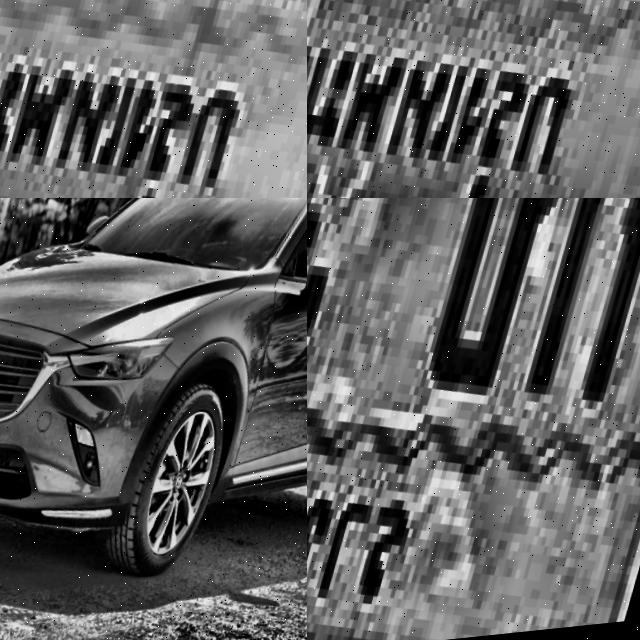license-plate: (307, 198, 640, 640), (307, 0, 640, 198), (0, 0, 307, 198)
